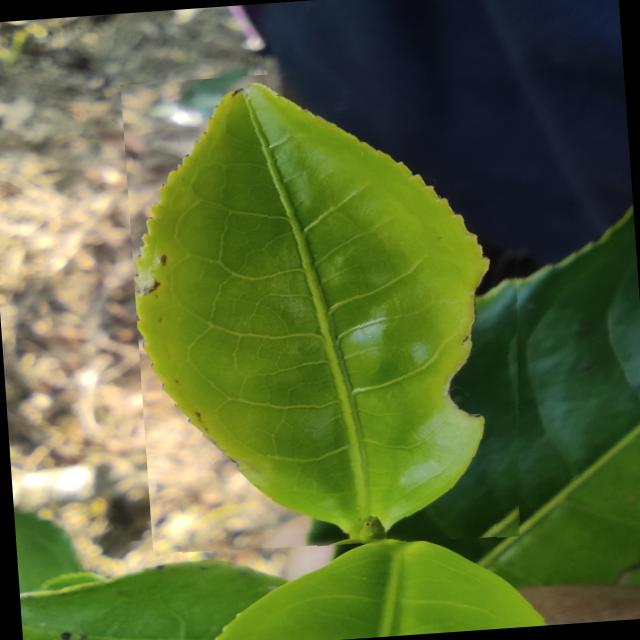Category B 2-4 days: (119, 57, 546, 561)
